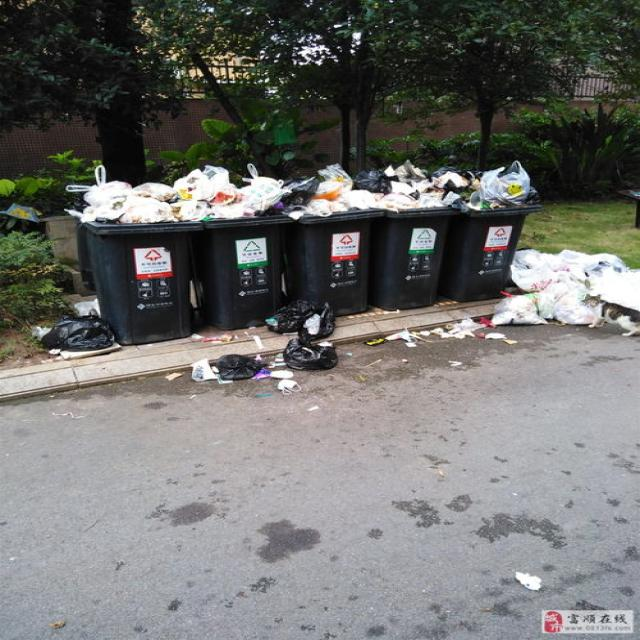garbage: (364, 247, 638, 369), (167, 299, 336, 396), (32, 298, 122, 359)
overflow: (60, 162, 200, 343), (189, 163, 288, 330), (282, 162, 384, 316), (445, 158, 543, 302), (370, 158, 453, 310)
